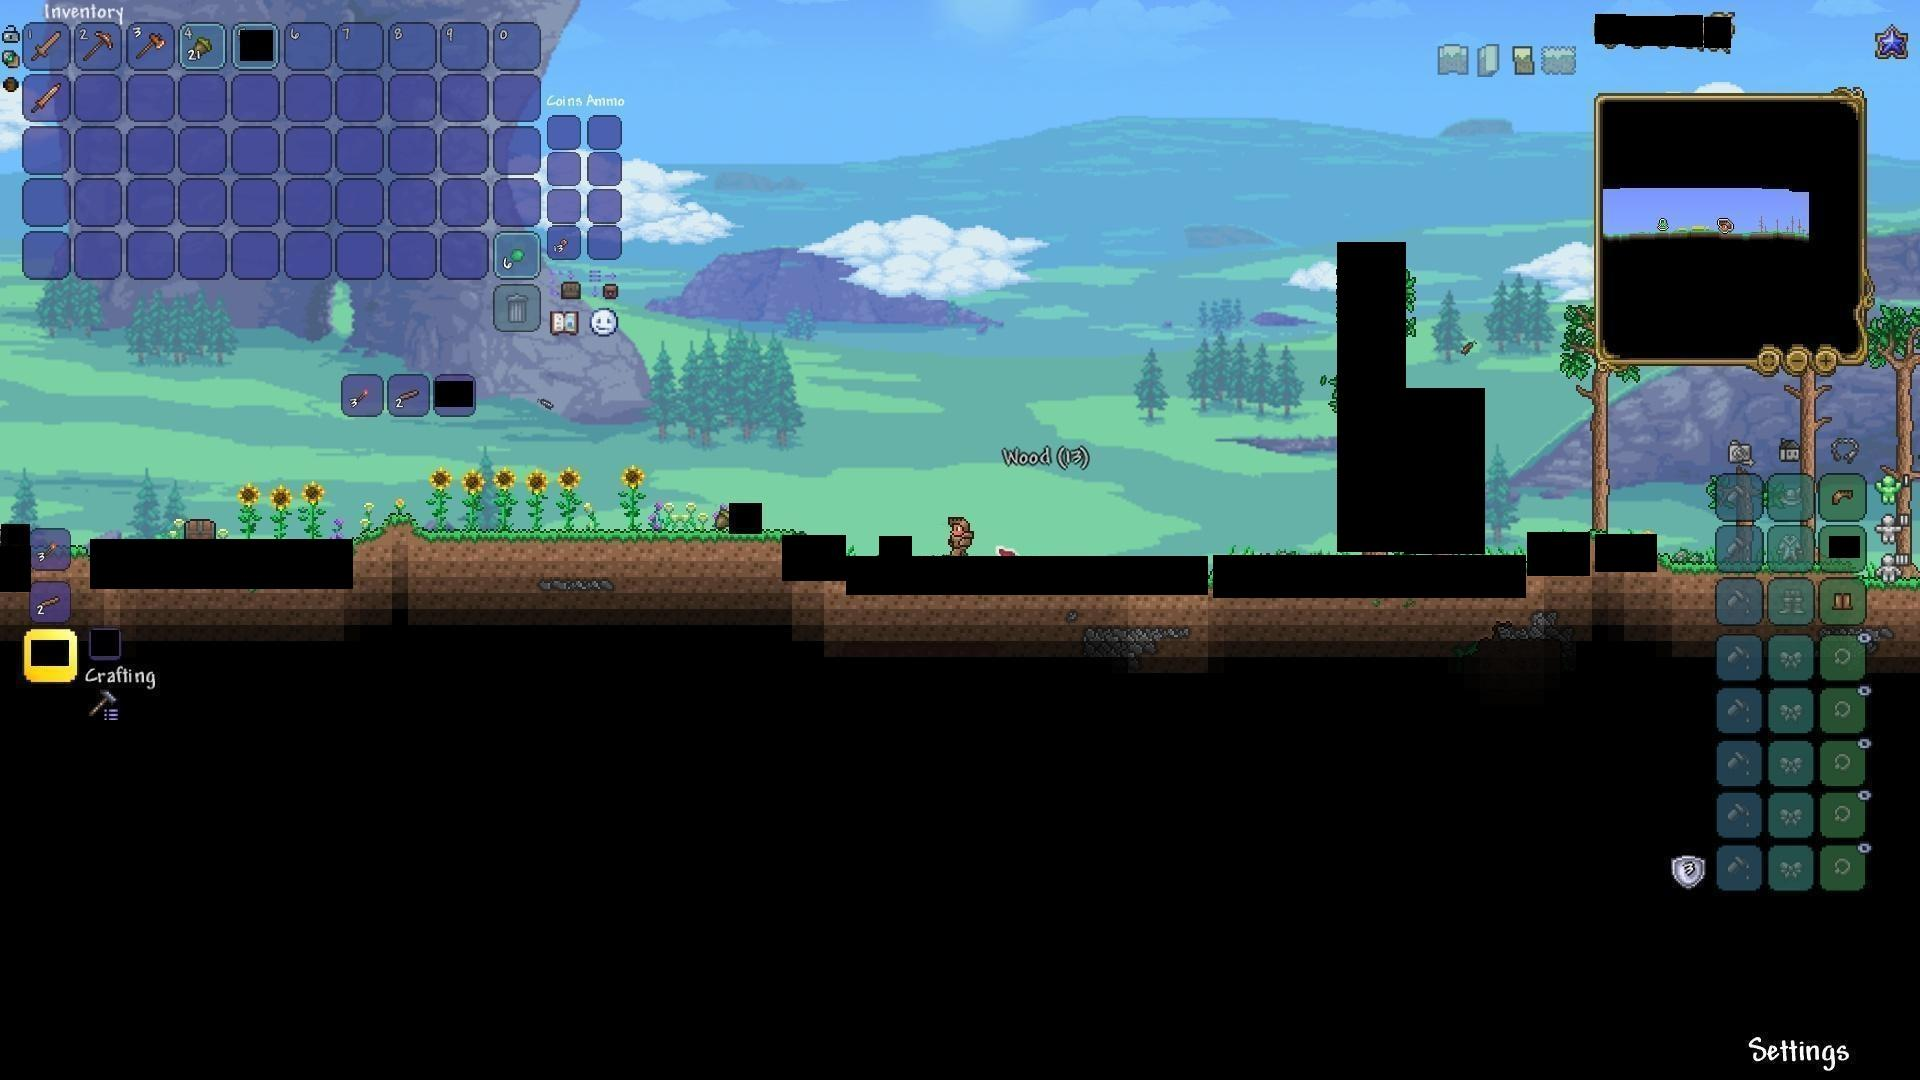dirt: (419, 521, 781, 568), (356, 512, 415, 560), (1865, 571, 1920, 618), (1659, 551, 1716, 579)
helmet: (1828, 483, 1859, 512)
legs: (1832, 588, 1855, 615)
tree: (1565, 313, 1614, 530), (1879, 309, 1920, 553)
